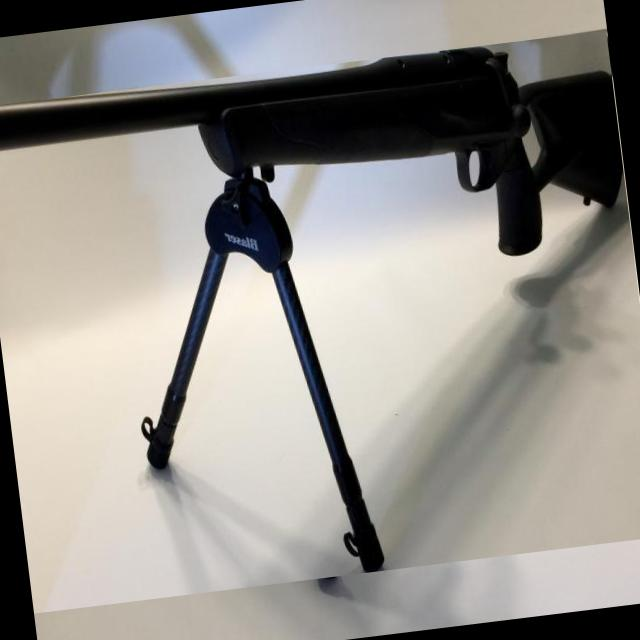Gun: (0, 47, 623, 572)
